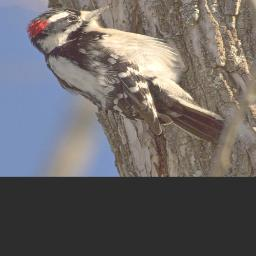Woodpecker: (26, 4, 225, 145)
